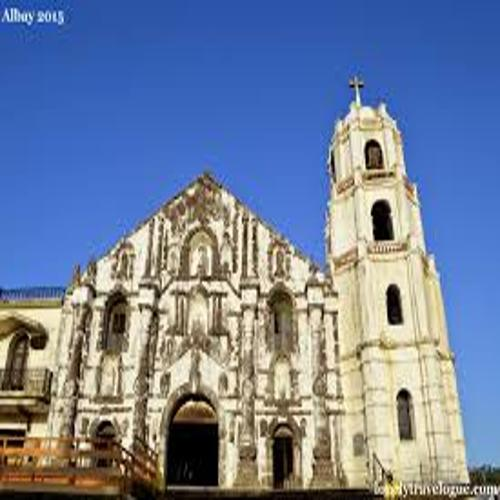Daraga Church: (63, 64, 471, 493)
